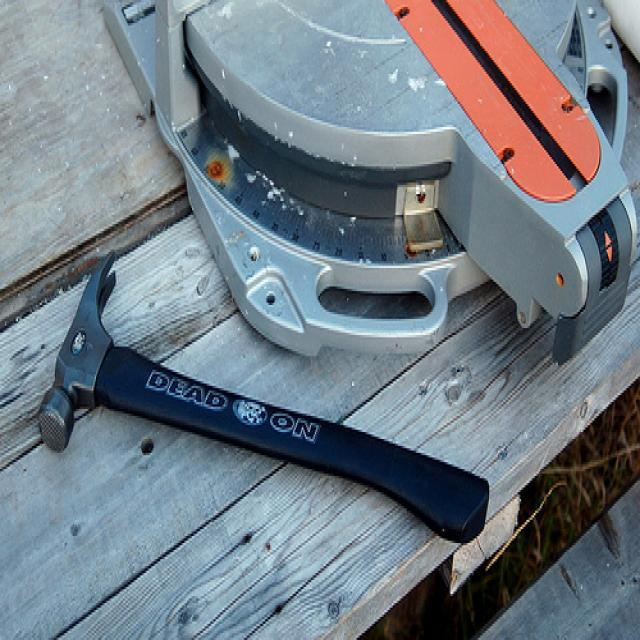hammer: (34, 239, 510, 568)
